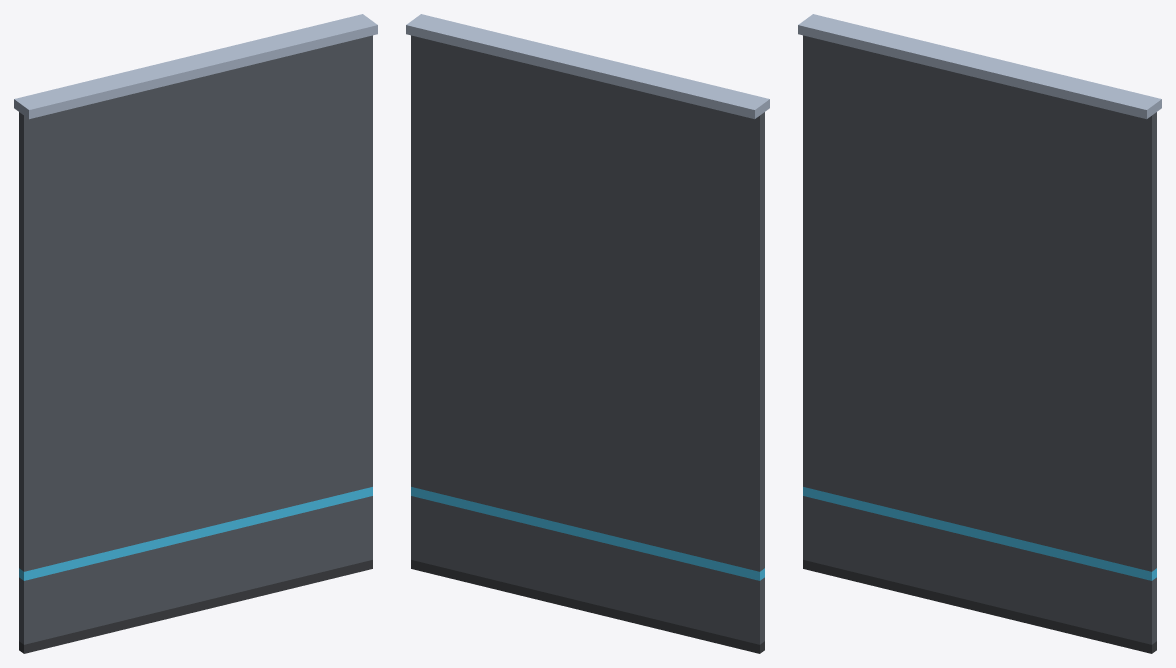
File: wall-blue.obj
The picture shows the model from 3 angles, left to right: view 1: azimuth 30°, elevation 25°; view 2: azimuth 150°, elevation 25°; view 3: azimuth 330°, elevation 25°; orthographic projection.
Bounding box in the file's own units: 4 × 6 × 0.3.
Materials: 1 (1 with a texture image).
